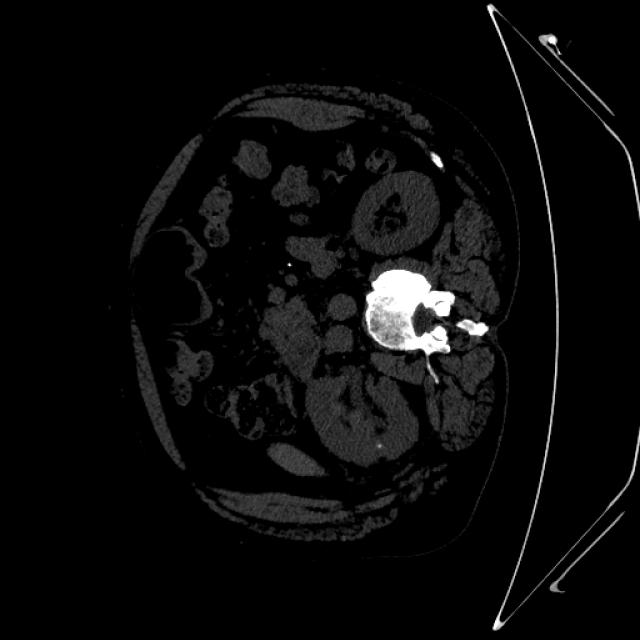kidneystone: (376, 443, 384, 451), (286, 262, 291, 266)
